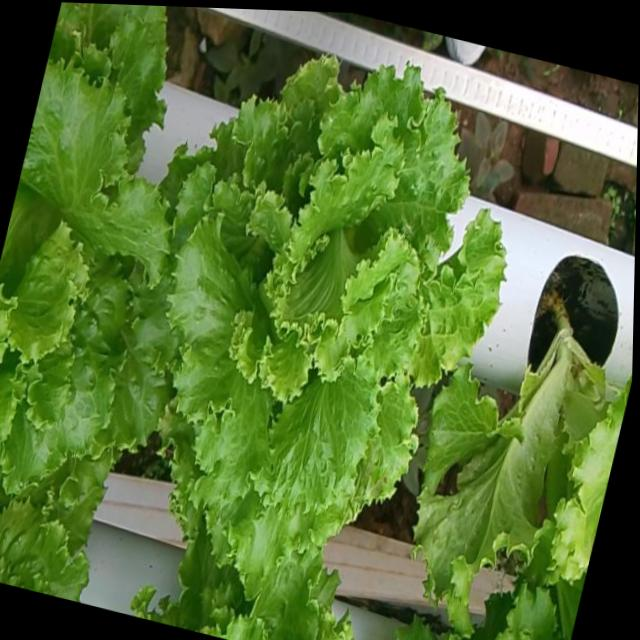Mature: (166, 47, 515, 567), (0, 38, 184, 484)
